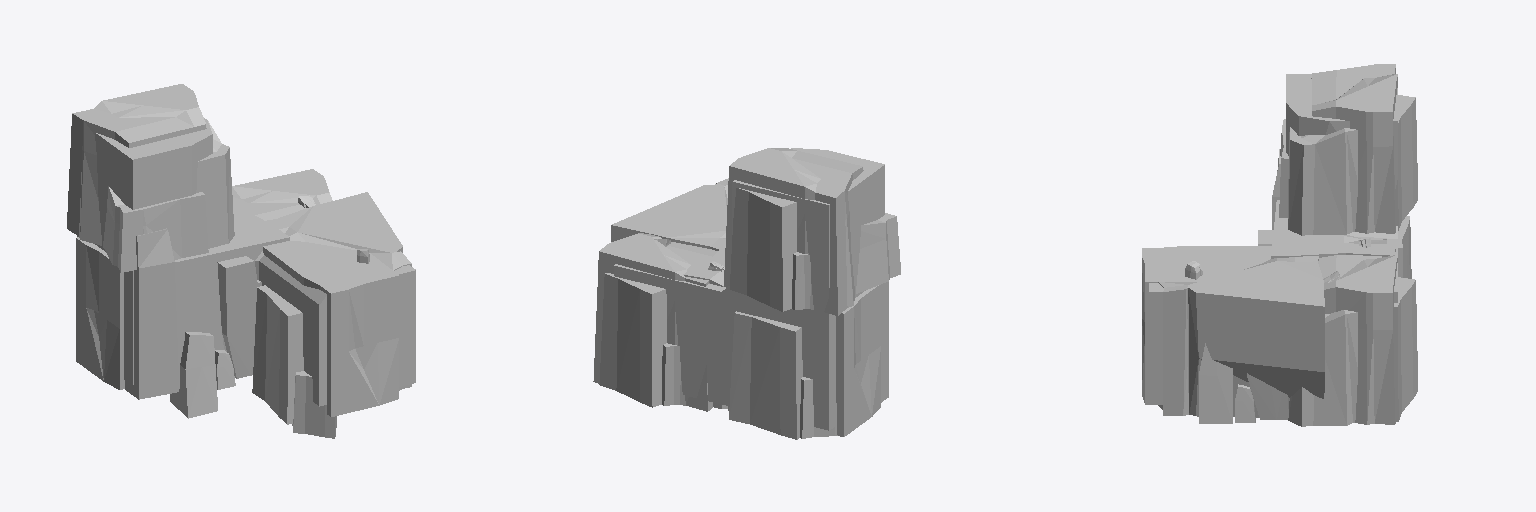
The model's file is cliff_1110_1000.obj.
The picture shows the model from 3 angles: view 1: azimuth 30°, elevation 25°; view 2: azimuth 150°, elevation 25°; view 3: azimuth 270°, elevation 25°; orthographic projection.
Visible parts, largest first — view 1: tile_1110_1000; view 2: tile_1110_1000; view 3: tile_1110_1000.
Boxes of the visible parts, x1=… form: tile_1110_1000: x1=67, y1=84, x2=415, y2=438; tile_1110_1000: x1=593, y1=148, x2=900, y2=439; tile_1110_1000: x1=1142, y1=64, x2=1417, y2=426.
Bounding box in the file's own units: 2.49 × 2.4 × 2.22.